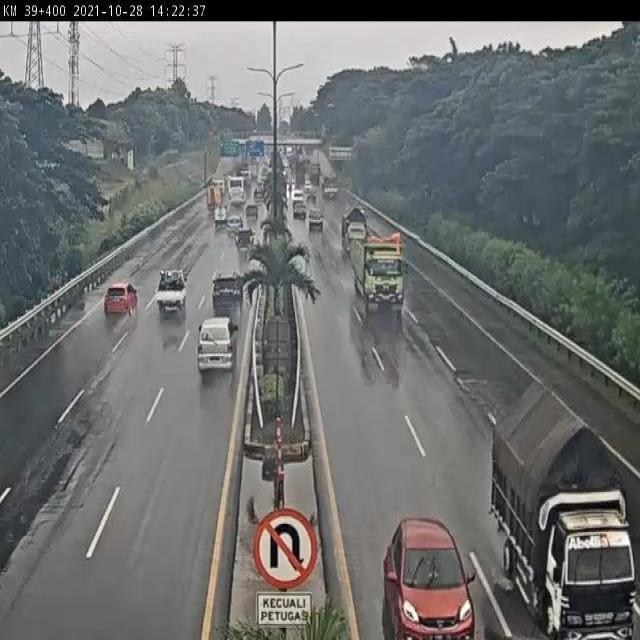car: (156, 268, 187, 312)
truck-l-: (354, 238, 406, 314)
truck-s-: (492, 378, 640, 640), (343, 208, 370, 267)
